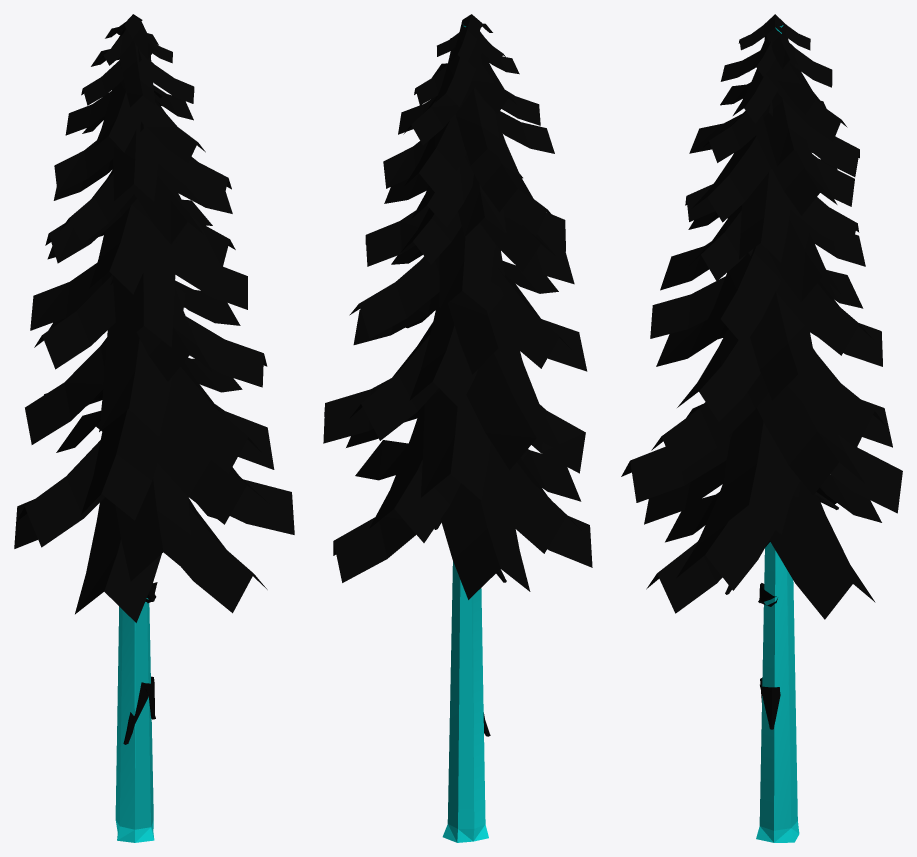
File: PineTree04.fbx
3 views of the same model, side by side, from view 1: azimuth 30°, elevation 25°; view 2: azimuth 150°, elevation 25°; view 3: azimuth 270°, elevation 25° (orthographic).
Parts seen in each view (by area): view 1: PineTree04_LOD0; view 2: PineTree04_LOD0; view 3: PineTree04_LOD0.
Part boxes in pixels (box(x1,y1,x2,y2)): PineTree04_LOD0: box(14, 14, 294, 842); PineTree04_LOD0: box(323, 14, 592, 842); PineTree04_LOD0: box(621, 14, 902, 842).
Bounding box in the file's own units: 397 × 1299 × 405.
